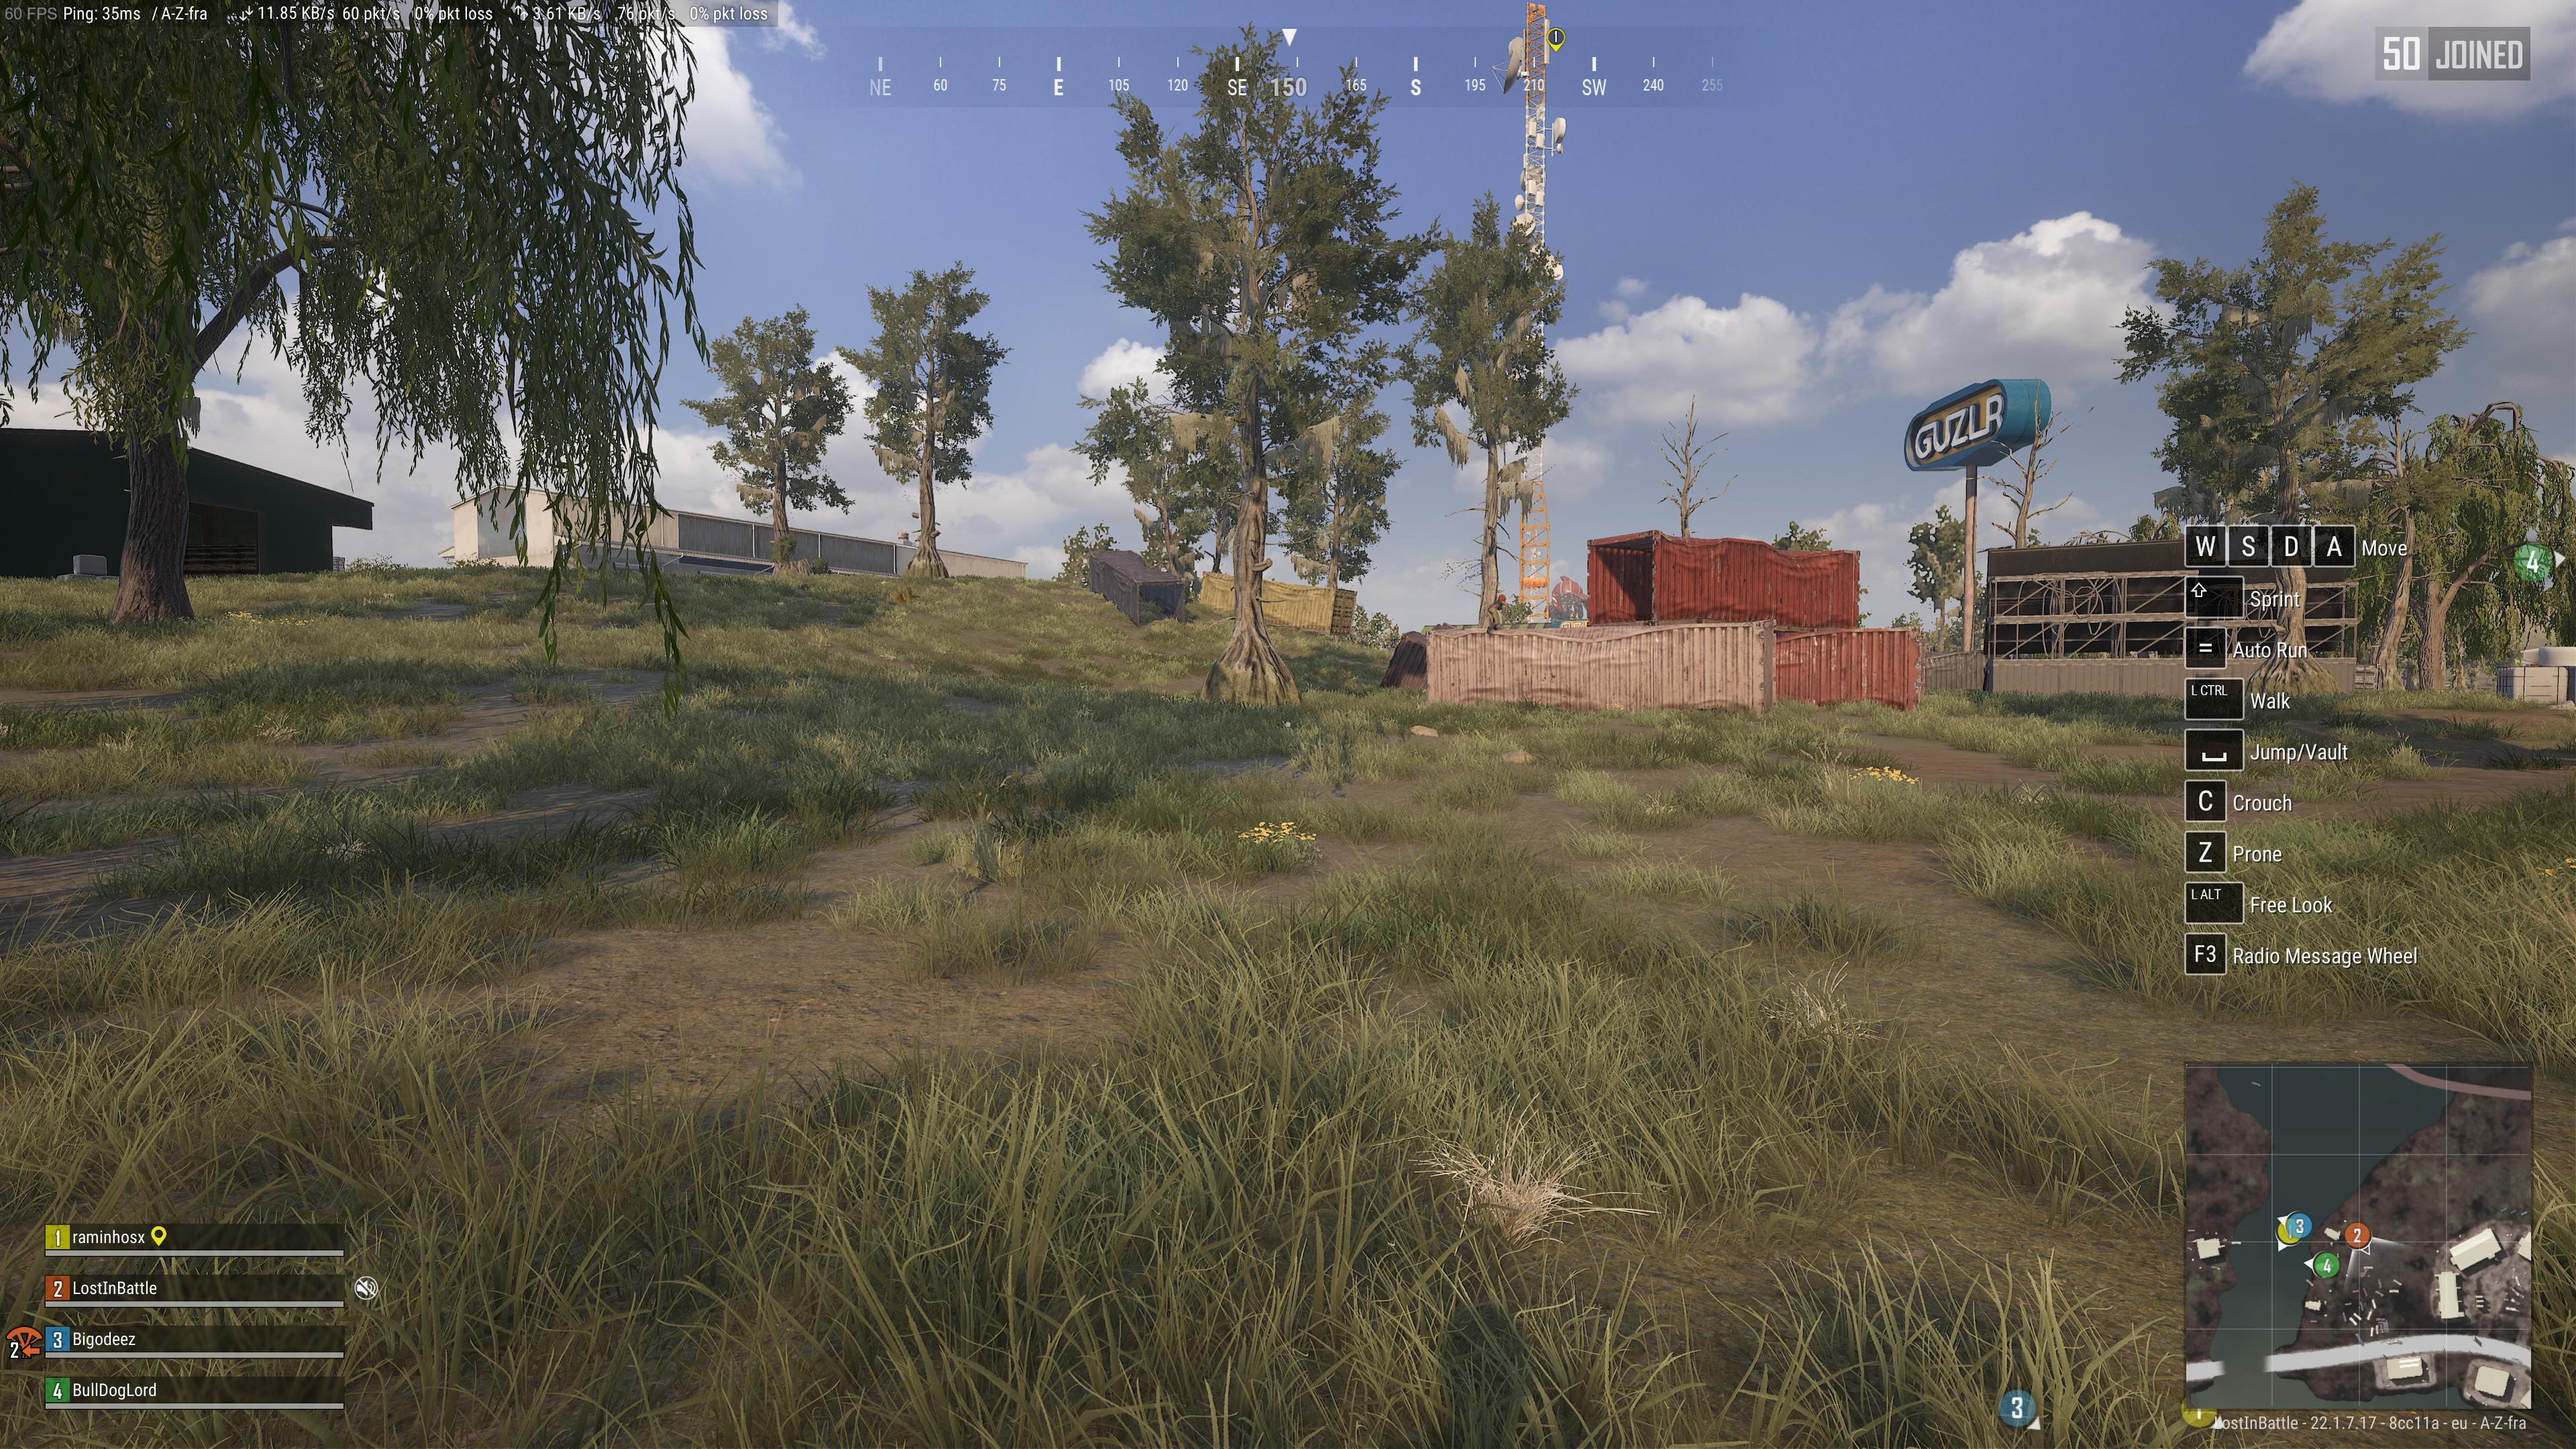enemy: (1484, 594, 1507, 633)
enemy_head: (1497, 594, 1506, 602)
